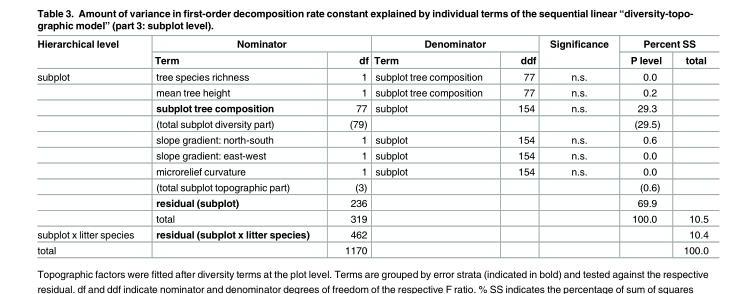table: (36, 37, 707, 255)
table column: (143, 37, 326, 255), (370, 37, 499, 255), (36, 37, 143, 255), (542, 37, 618, 255), (618, 37, 671, 255), (326, 37, 370, 255), (499, 37, 542, 255), (671, 37, 707, 255)
table column header: (36, 37, 707, 67)
table row: (36, 67, 707, 84), (36, 51, 707, 67), (36, 99, 707, 115), (36, 115, 707, 131), (36, 131, 707, 147), (36, 162, 707, 178), (36, 178, 707, 194), (36, 194, 707, 210), (36, 225, 707, 241), (36, 84, 707, 99), (36, 147, 707, 162), (36, 210, 707, 225), (36, 37, 707, 51), (36, 241, 707, 255)
table spanning cell: (36, 67, 143, 225), (36, 37, 143, 67), (143, 37, 370, 51), (370, 37, 542, 51), (542, 37, 618, 67), (618, 37, 707, 51)
